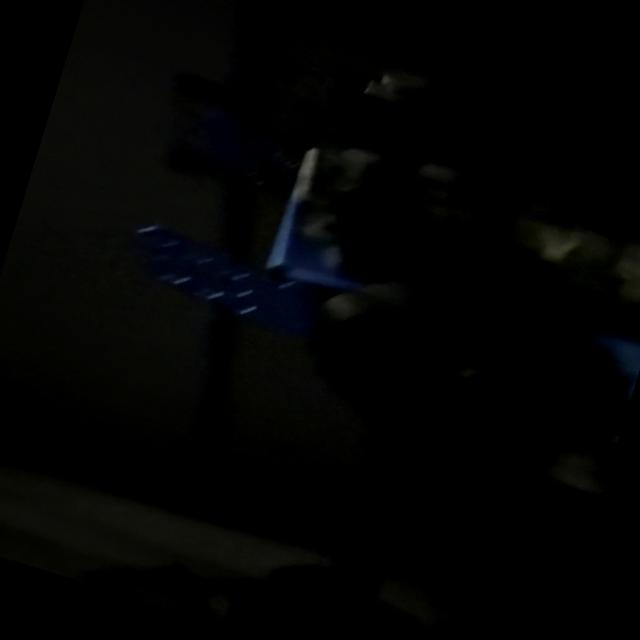mbot-detection: (85, 0, 640, 491)
